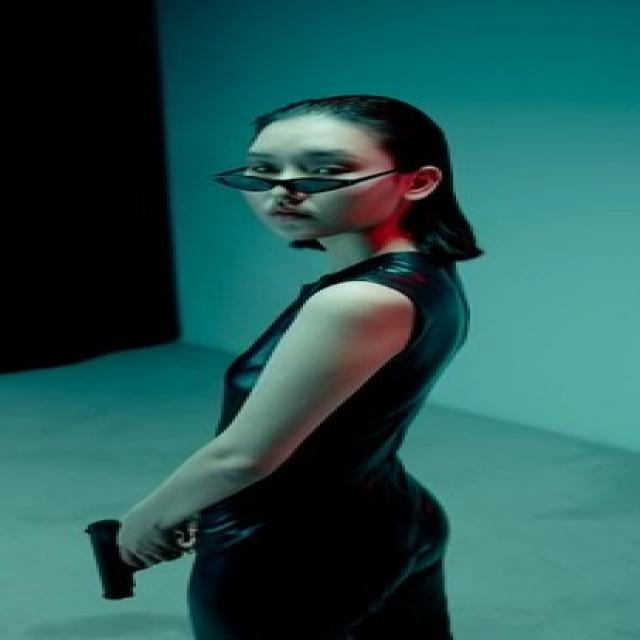Gun_Holder: (69, 514, 225, 604)
Person: (158, 94, 521, 640)
